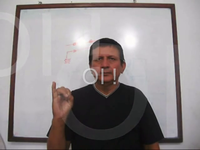oi: (51, 80, 75, 120)
